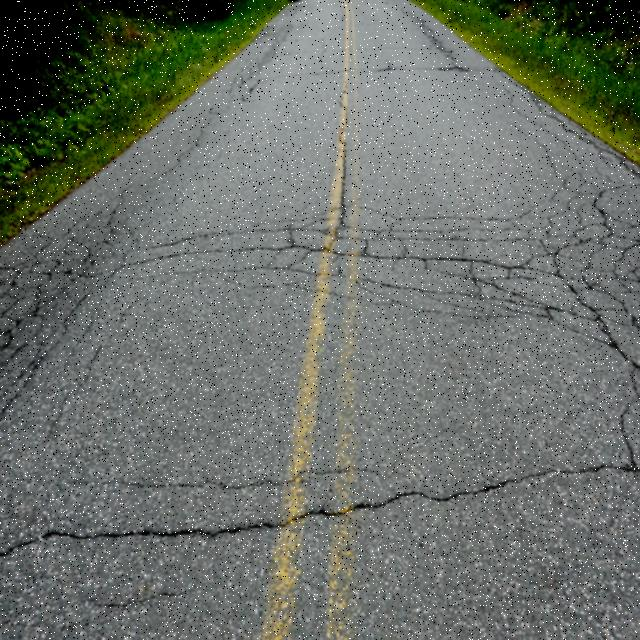Crack: (0, 405, 640, 562), (112, 226, 557, 278), (553, 189, 638, 371), (0, 267, 74, 357), (338, 112, 347, 233)
